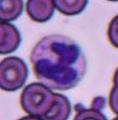N: (30, 33, 86, 90)
